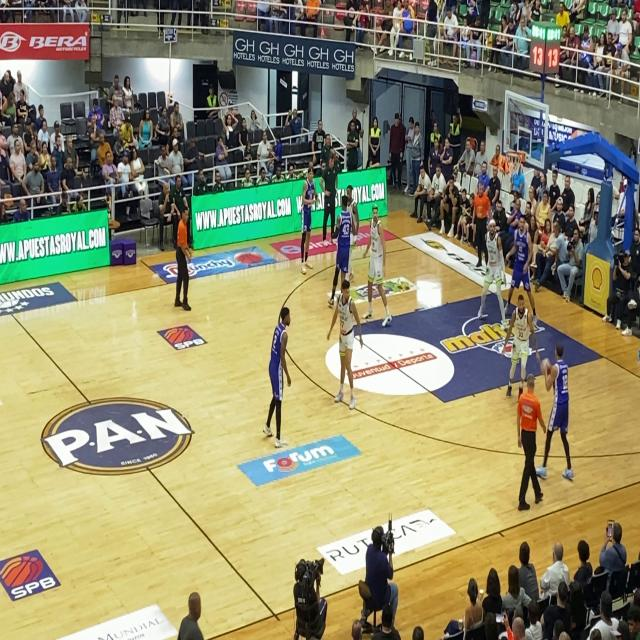Ball: (538, 356, 554, 383)
referee: (509, 375, 546, 522)
team1: (364, 205, 391, 326), (479, 211, 505, 325), (508, 287, 536, 383)
team2: (257, 298, 293, 449), (331, 189, 356, 289)
ubasket: (502, 146, 524, 180)
